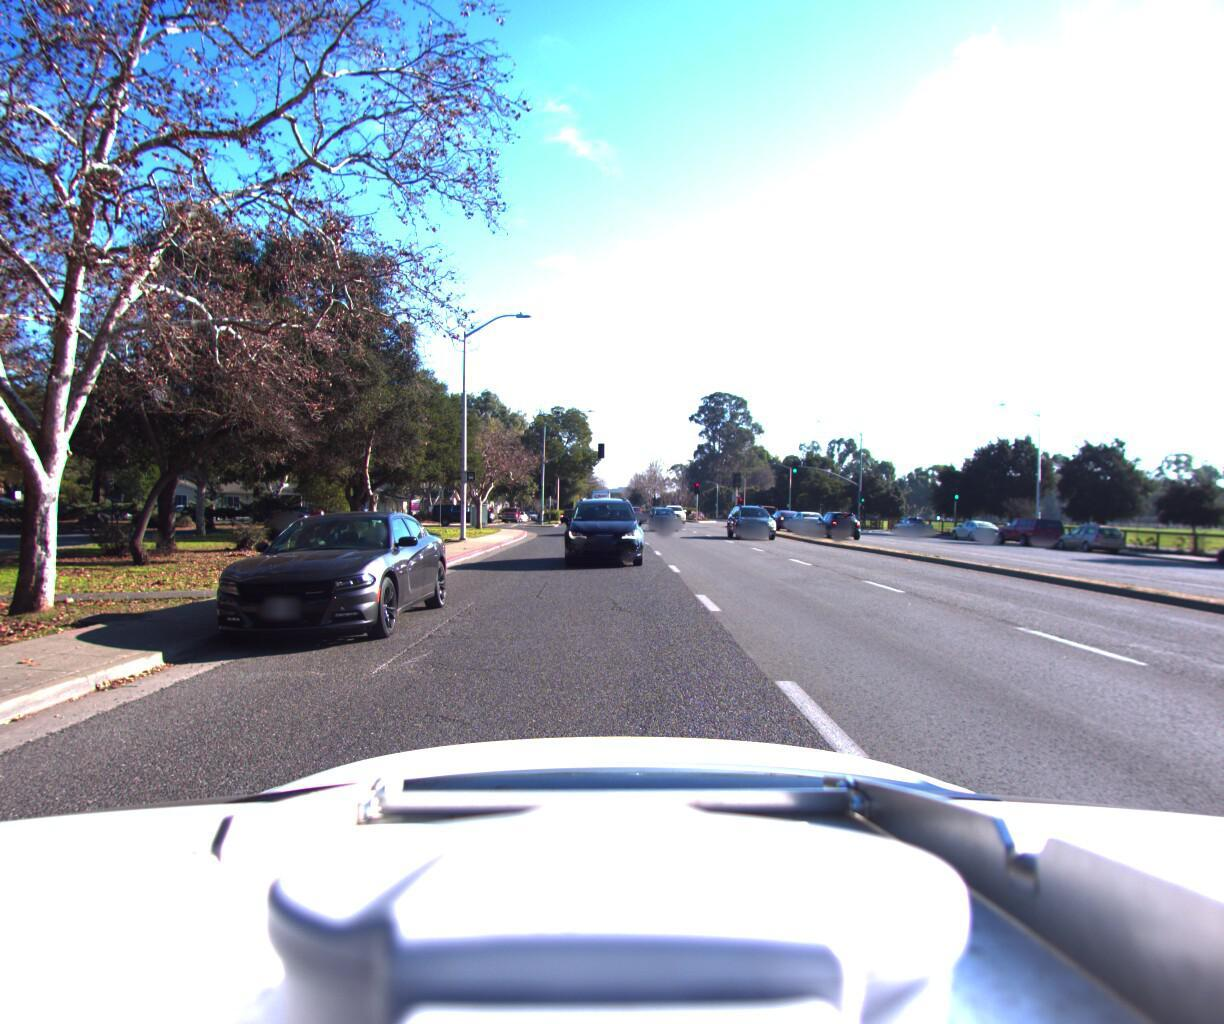car: (184, 505, 466, 663), (554, 495, 644, 580), (990, 520, 1067, 556), (1047, 527, 1128, 561), (718, 507, 774, 548), (810, 515, 866, 546), (428, 510, 500, 535), (945, 525, 1002, 550), (783, 516, 829, 542), (345, 514, 404, 533), (890, 521, 935, 544), (276, 513, 330, 532), (1201, 537, 1224, 582), (764, 516, 808, 539), (644, 513, 678, 539), (660, 509, 687, 531)
